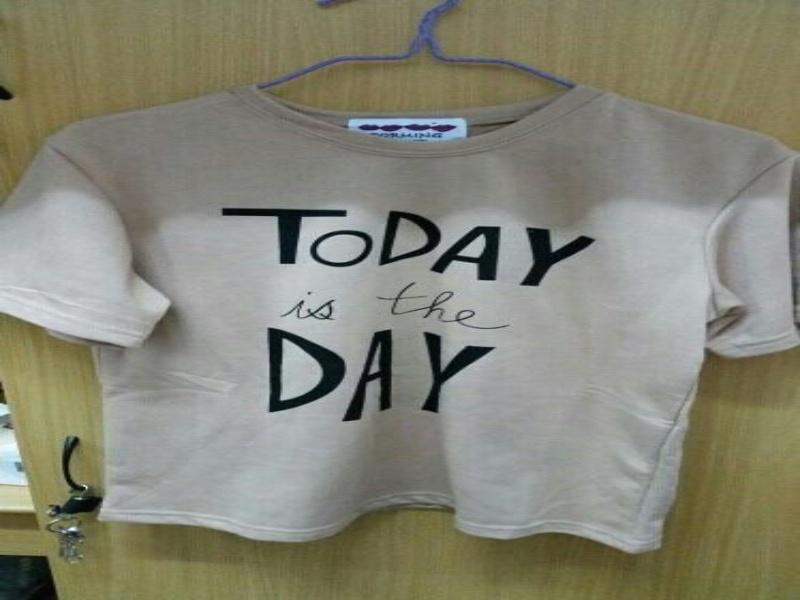short_sleeved_shirt: (6, 83, 798, 558)
